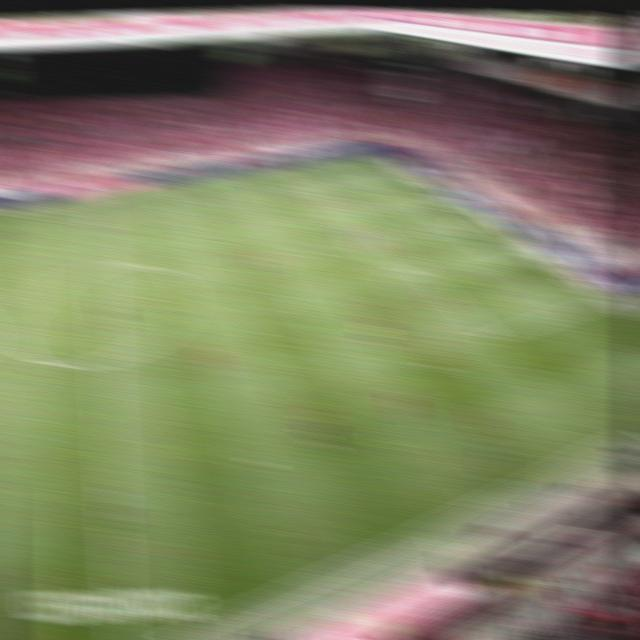bigarea_bottom_inner: (480, 329, 508, 344)
bigarea_bottom_outter: (590, 294, 618, 309)
bigarea_top_inner: (314, 184, 342, 198)
bigarea_top_outter: (400, 173, 428, 187)
bottom_arc_area_intersection: (408, 266, 435, 281)
corner: (361, 149, 389, 163)
halfcircle_bottom: (90, 352, 118, 367)
halfcircle_top: (86, 260, 114, 274)
midline_top_intersection: (83, 191, 111, 205)
smallarea_bottom_inner: (489, 256, 517, 270)
smallarea_bottom_outter: (521, 249, 549, 263)
smallarea_top_inner: (410, 200, 437, 216)
smallarea_top_outter: (438, 195, 466, 210)
top_arc_area_intersection: (350, 216, 378, 231)
